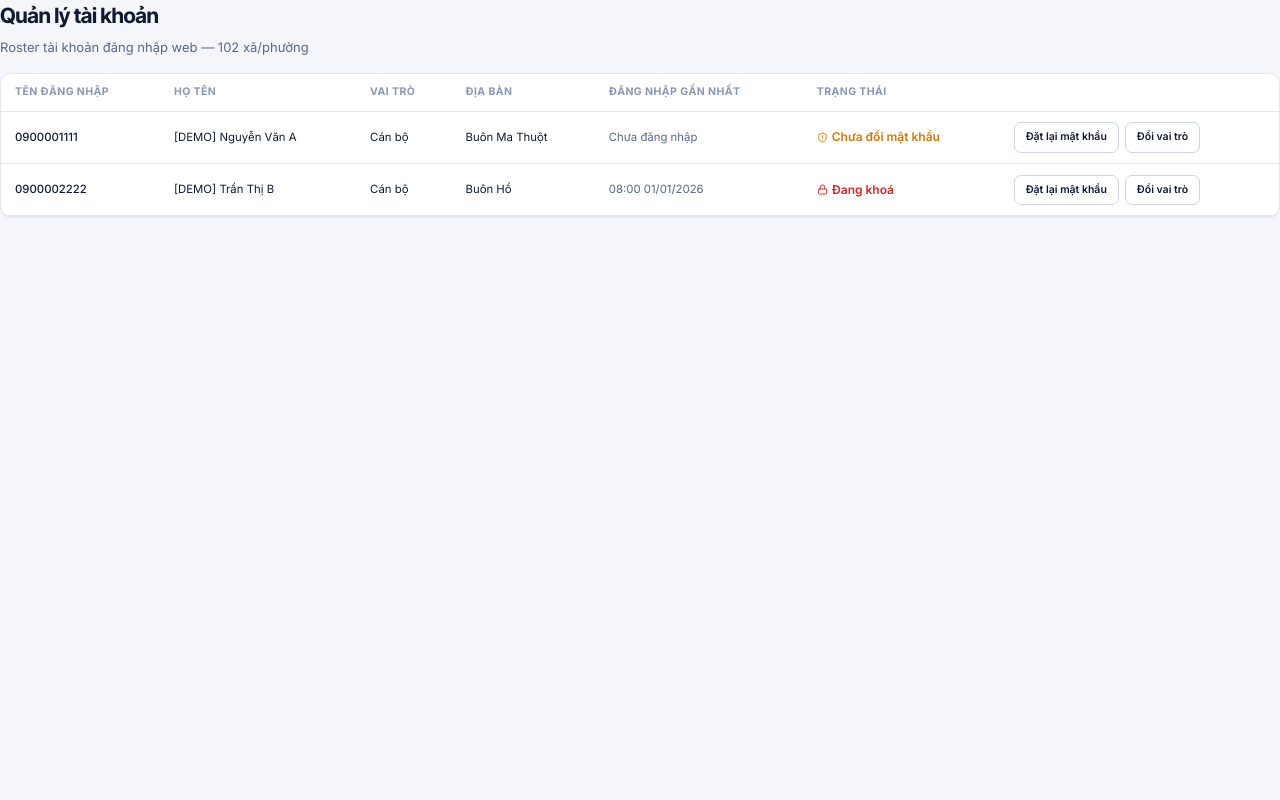
Test: AdminAccountsPage › Đổi vai trò › opens the dialog pre-filled with the account current role and saves just the role
The width and height of the screenshot is (1280, 800).
Expected: the text "0900001111" is shown, [1,112,160,164]
Click the button "Đổi vai trò" in the row of "0900001111".
click(1162, 138)  # box [1125,122,1200,153]
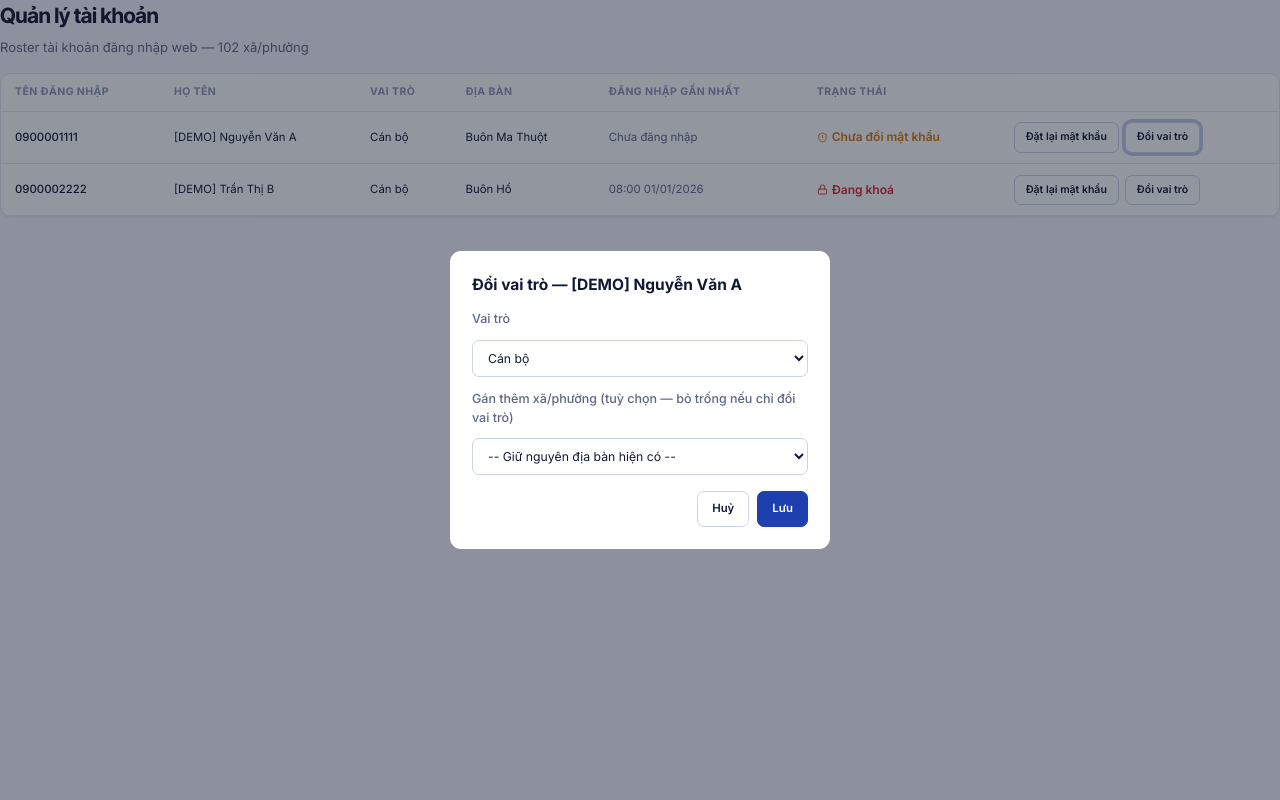
Expected: the text "Đổi vai trò — [DEMO] Nguyễn Văn A" is shown, [472,275,742,294]
Select "Trưởng xã" in the dropdown labelled "Vai trò" at (640, 358), box [472,340,808,376]
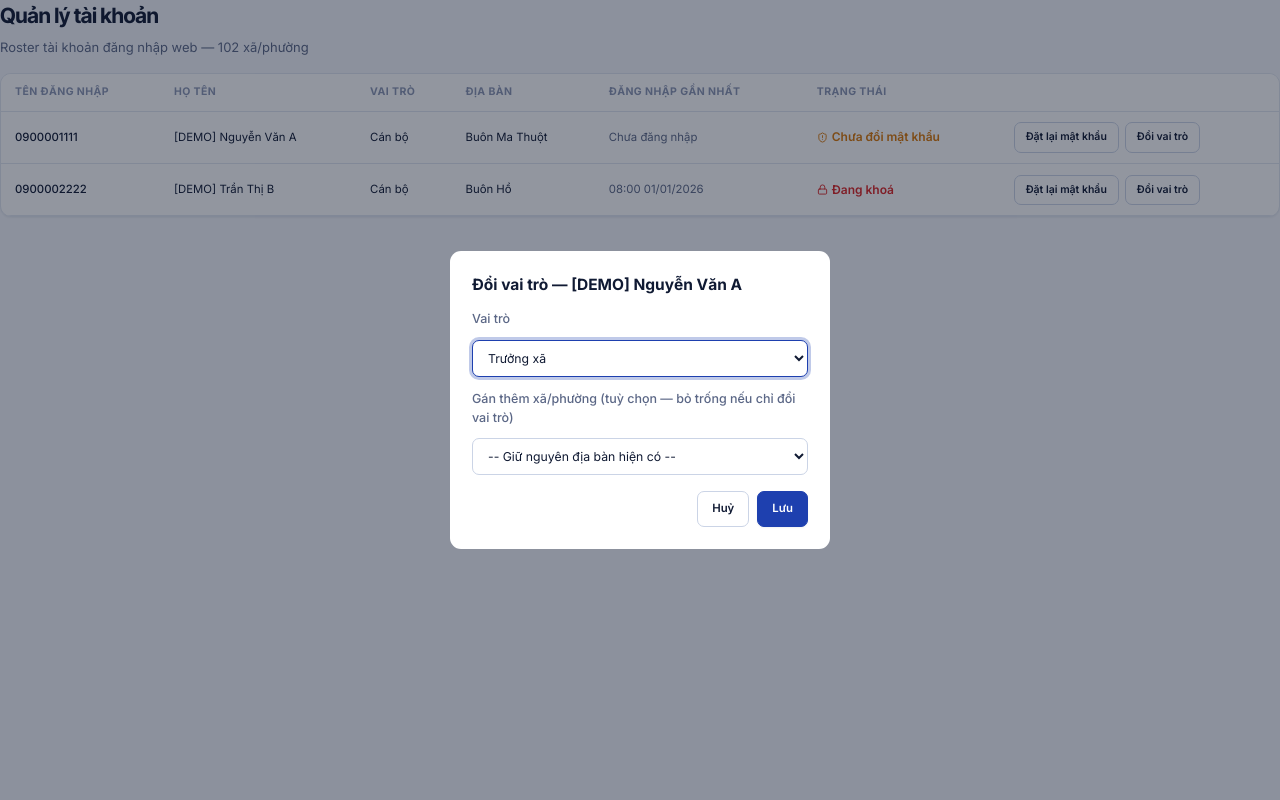
Click the button "Lưu".
click(783, 509)  # box [757,491,808,527]
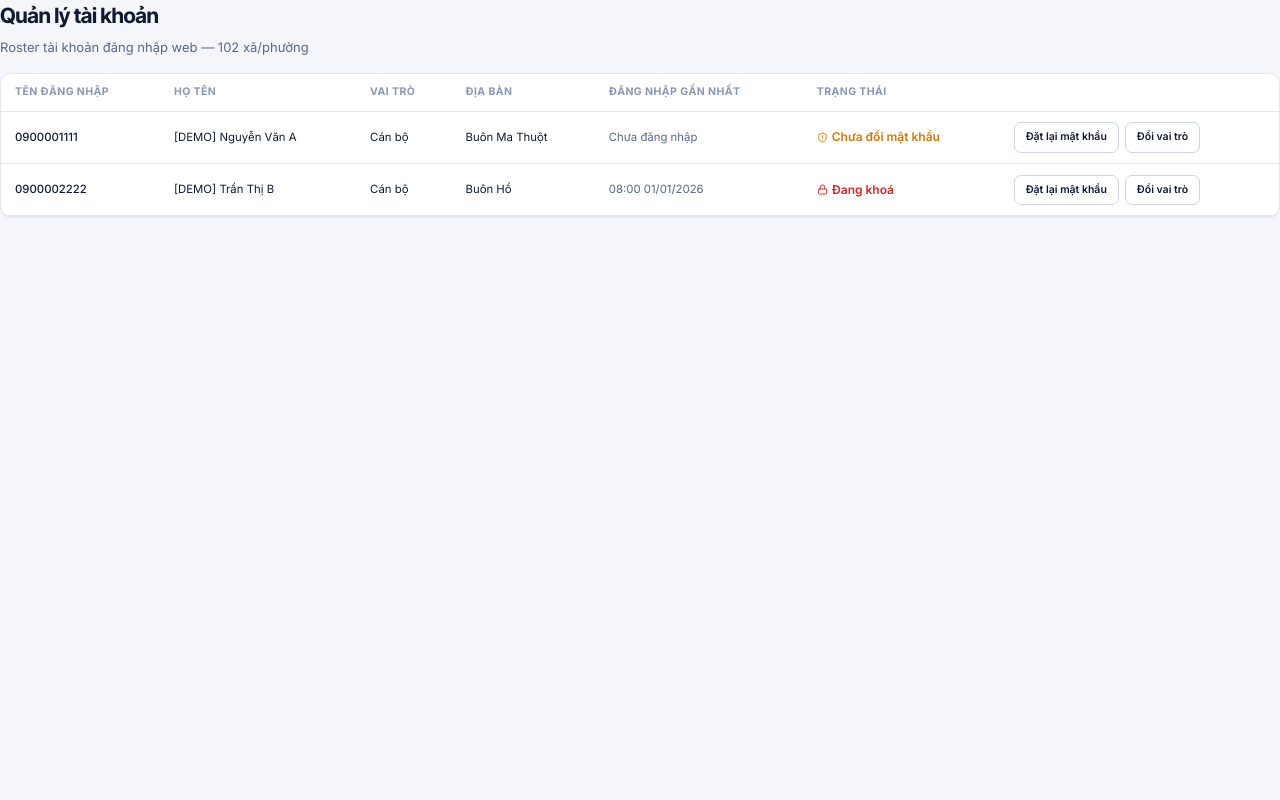
Expected: the text "Đổi vai trò — [DEMO] Nguyễn Văn A" is gone
